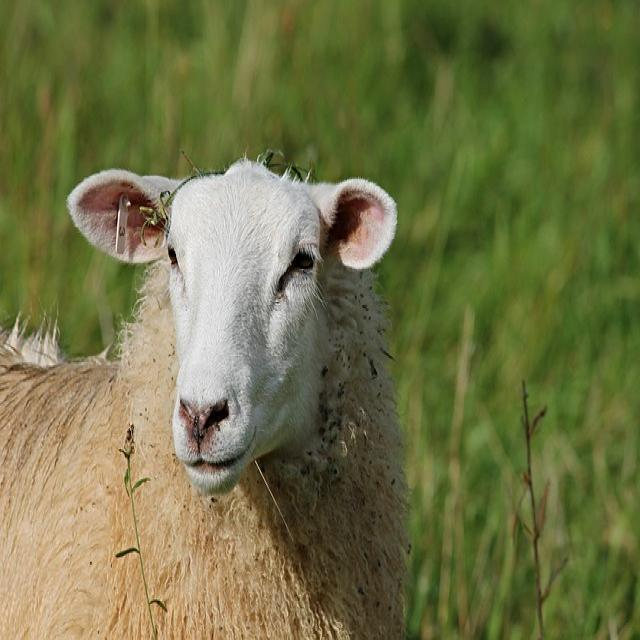goat: (0, 159, 409, 640)
